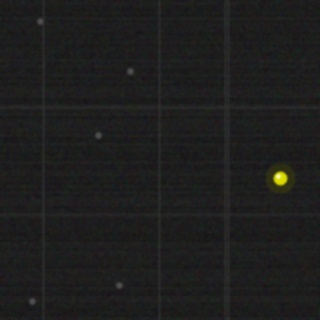yellow_warning: (271, 169, 289, 187)
